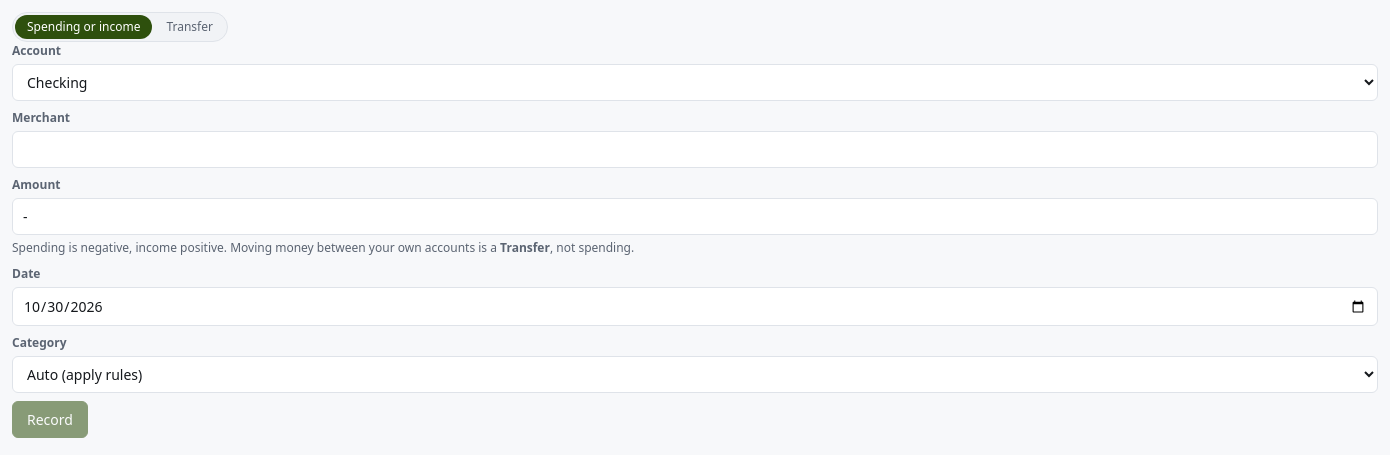
it: moving money between accounts › switches to the transfer form
What coordinates should you click on to do the following:
click the button "Transfer"
I would click on:
 (190, 27)
Its box is [154,15,225,39].
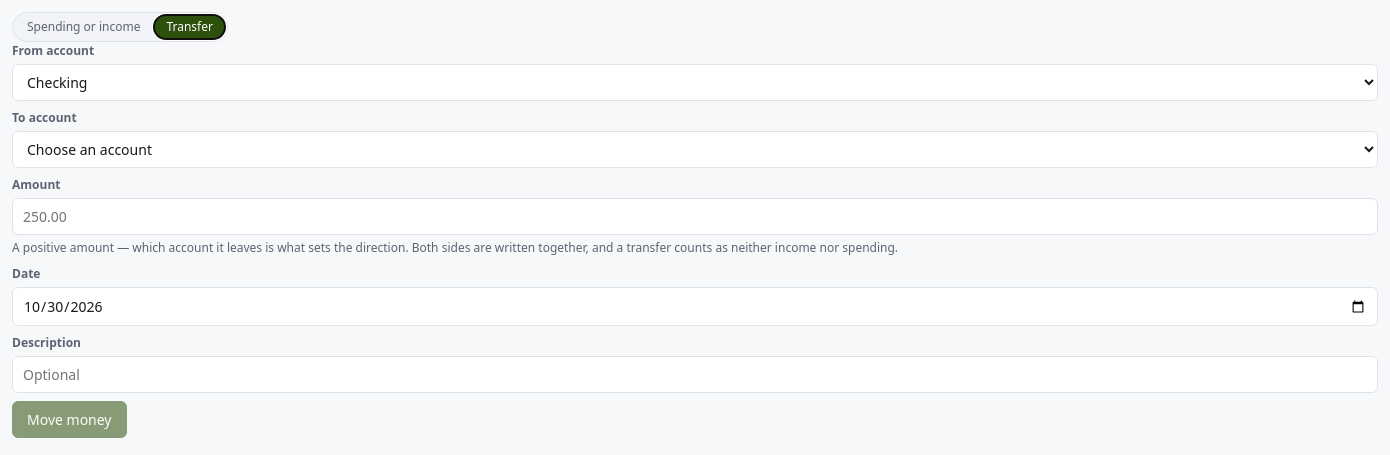
Check: the button "Move money" is shown, box [12,401,126,438]
Check: the dropdown labelled "To account" is shown, box [12,131,1378,168]
Check: the label labelled "Merchant" is gone
